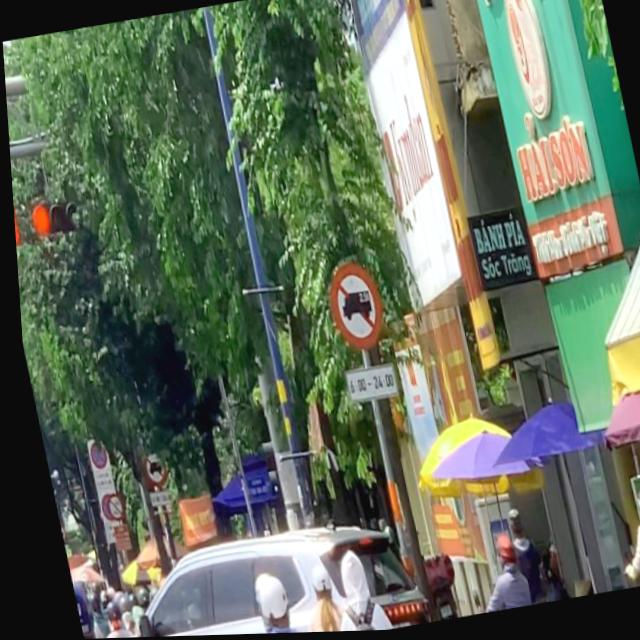Cam xe tai tren 2_5: (319, 261, 387, 358), (133, 447, 164, 492)
